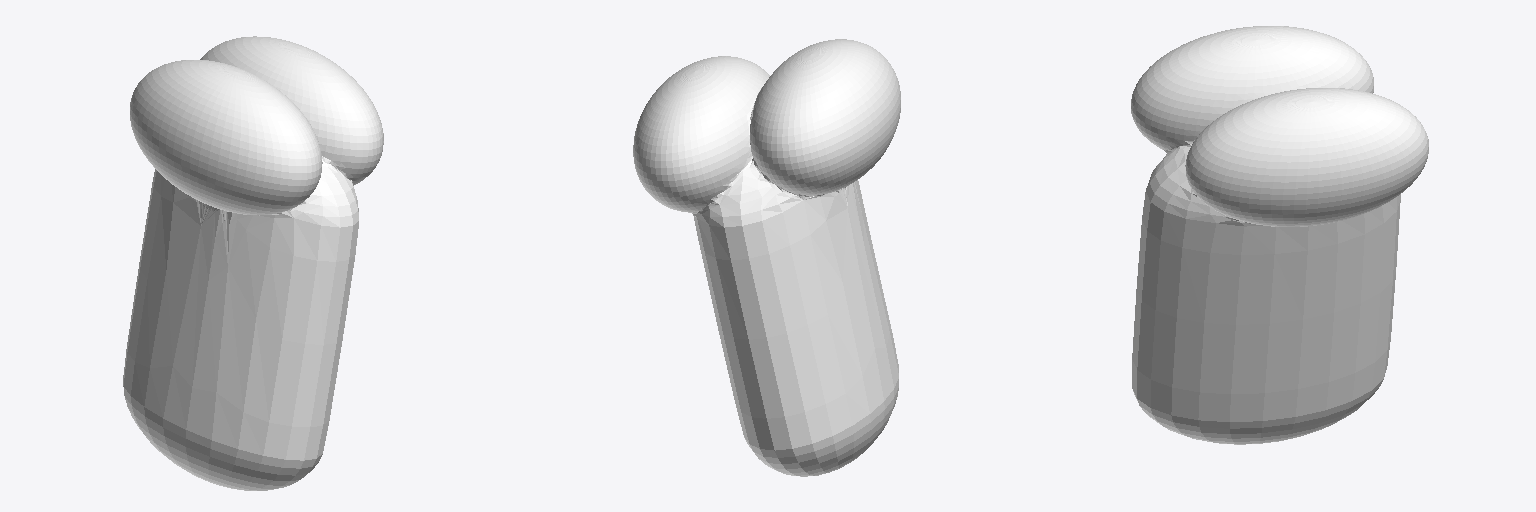
The model's file is player_headbone.obj.
The picture shows the model from 3 angles: view 1: azimuth 30°, elevation 25°; view 2: azimuth 150°, elevation 25°; view 3: azimuth 270°, elevation 25°; orthographic projection.
Visible parts, largest first — view 1: Sphere002; view 2: Sphere002; view 3: Sphere002.
Part boxes in pixels (x1,y1,x2,y2): Sphere002: (123,36,383,490); Sphere002: (633,39,900,476); Sphere002: (1131,26,1428,444).
Size of the model in its own units: 4.29 by 7.74 by 5.19.